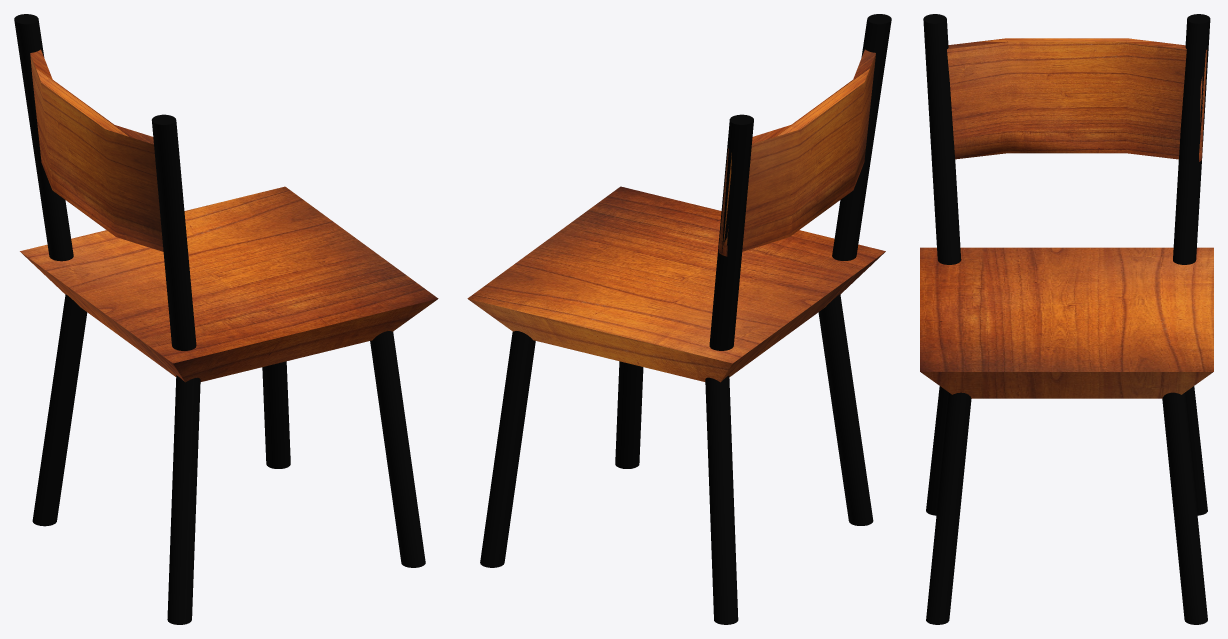
The model's file is chair.obj.
3 views of the same model, side by side, from view 1: azimuth 30°, elevation 25°; view 2: azimuth 150°, elevation 25°; view 3: azimuth 270°, elevation 25° (orthographic). The views are drawn at different scales.
Visible parts, largest first — view 1: Box001, Back003, Leg002, Back, Leg001, Cylinder001, Back001, Leg; view 2: Box001, Back003, Cylinder001, Leg, Back001, Leg002, Back, Leg001; view 3: Box001, Back003, Back, Back001, Leg, Leg001, Leg002, Cylinder001.
Boxes of the visible parts, <box> form: Box001: <box>20,186,438,382</box>; Back003: <box>30,49,163,251</box>; Leg002: <box>167,375,200,624</box>; Back: <box>151,114,196,350</box>; Leg001: <box>370,331,425,567</box>; Cylinder001: <box>32,294,87,526</box>; Back001: <box>14,14,73,261</box>; Leg: <box>262,361,290,468</box>; Box001: <box>467,186,885,382</box>; Back003: <box>718,49,875,256</box>; Cylinder001: <box>705,375,738,624</box>; Leg: <box>480,331,535,567</box>; Back001: <box>709,114,753,350</box>; Leg002: <box>818,294,873,525</box>; Back: <box>832,14,891,260</box>; Leg001: <box>615,361,643,468</box>; Box001: <box>920,247,1213,398</box>; Back003: <box>947,38,1207,161</box>; Back: <box>923,14,961,264</box>; Back001: <box>1173,14,1210,264</box>; Leg: <box>1162,392,1207,624</box>; Leg001: <box>926,392,971,624</box>; Leg002: <box>926,386,948,515</box>; Cylinder001: <box>1185,386,1207,515</box>.
Bounding box in the file's own units: 13.59 × 22.71 × 12.5.
